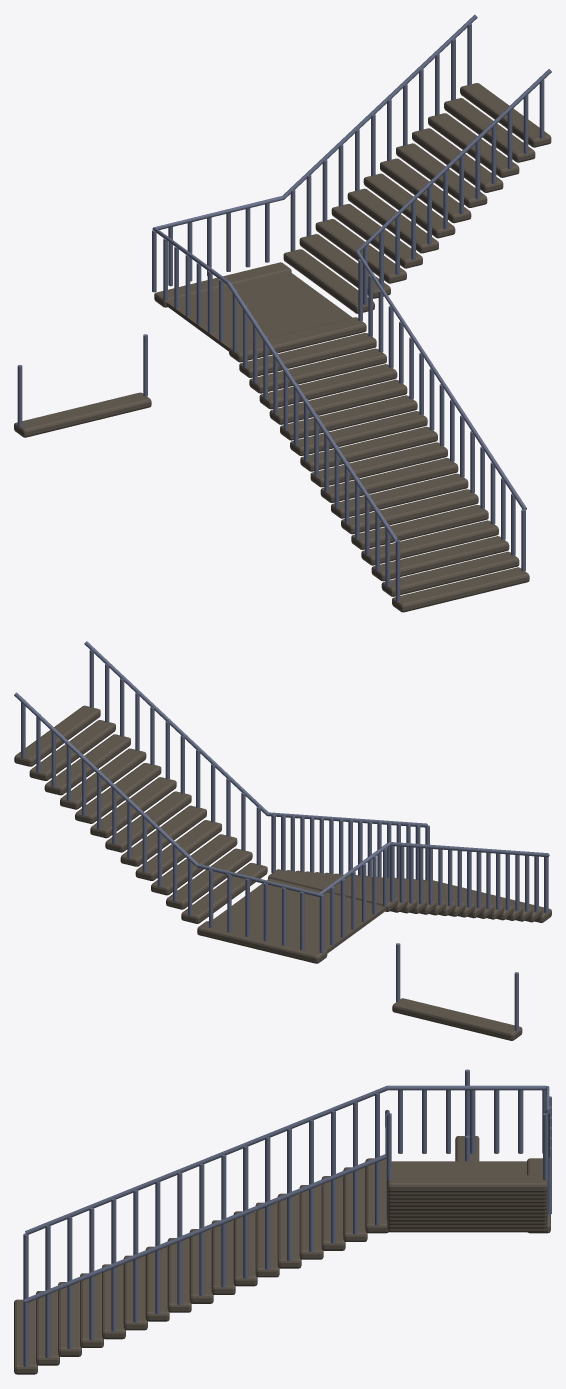
File: escaleraPracticas.glb
3 views of the same model, one above another, from view 1: azimuth 30°, elevation 25°; view 2: azimuth 150°, elevation 25°; view 3: azimuth 270°, elevation 25° (orthographic). The views are drawn at different scales.
Visible parts, largest first — view 1: escalerasCHine; view 2: escalerasCHine; view 3: escalerasCHine.
Part boxes in pixels (bbox=[...]): escalerasCHine: bbox=[14, 14, 551, 612]; escalerasCHine: bbox=[14, 641, 551, 1040]; escalerasCHine: bbox=[14, 1069, 551, 1374].
Bounding box in the file's own units: 7.74 × 5.05 × 6.72.
